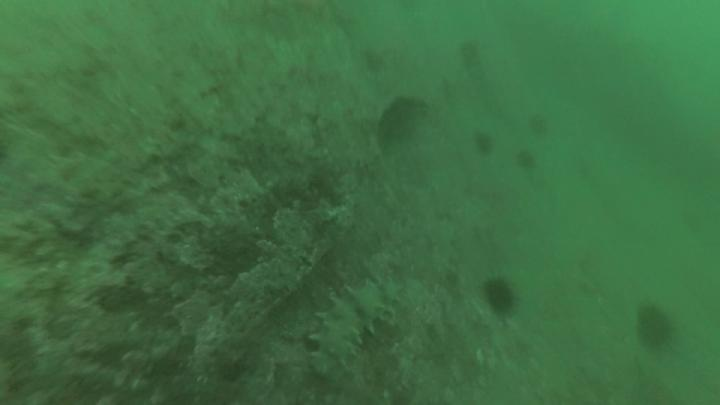echinus: (636, 306, 672, 350), (382, 98, 422, 135), (489, 280, 518, 311), (475, 131, 495, 154), (517, 150, 534, 166)
holothurian: (312, 280, 405, 379)
